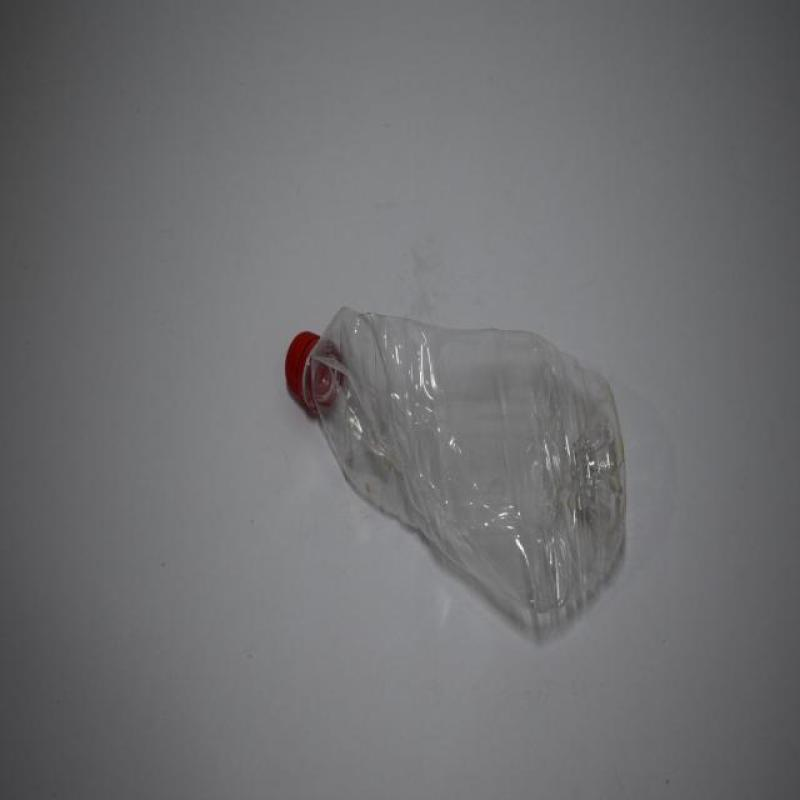botella: (283, 303, 628, 656)
